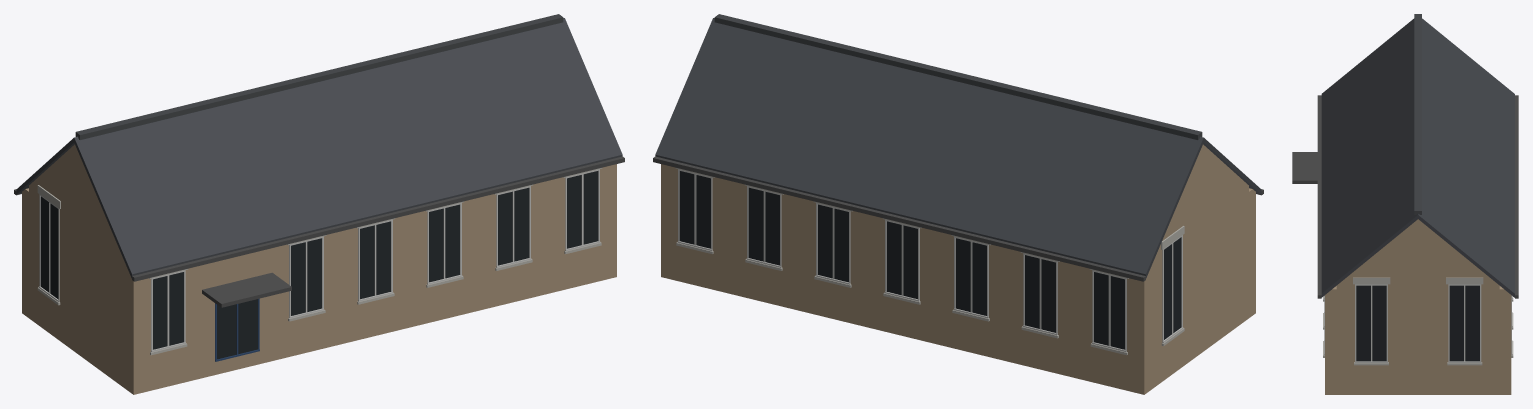
The model's file is context.school.board_school_stone.glb.
The picture shows the model from 3 angles, left to right: view 1: azimuth 30°, elevation 25°; view 2: azimuth 150°, elevation 25°; view 3: azimuth 270°, elevation 25°; orthographic projection. The views are drawn at different scales.
Parts seen in each view (by area): view 1: main__tile_445, main__stone_a97, main__paint_223, main__steel_555, main__tile_444, main__paint_ccc, main__stone_bba; view 2: main__tile_445, main__stone_a97, main__paint_223, main__paint_ccc, main__tile_444, main__steel_555, main__stone_bba; view 3: main__tile_445, main__stone_a97, main__paint_223, main__steel_555, main__tile_444, main__paint_ccc, main__stone_bba.
Part boxes in pixels (x1,y1,x2,y2): main__tile_445: (16, 18, 622, 278); main__stone_a97: (22, 144, 616, 394); main__paint_223: (40, 171, 598, 359); main__steel_555: (14, 156, 624, 307); main__tile_444: (75, 14, 563, 139); main__paint_ccc: (38, 169, 600, 352); main__stone_bba: (37, 168, 602, 355); main__tile_445: (655, 18, 1261, 278); main__stone_a97: (661, 144, 1255, 394); main__paint_223: (679, 171, 1181, 349); main__paint_ccc: (677, 169, 1183, 352); main__tile_444: (714, 14, 1202, 139); main__steel_555: (653, 156, 1263, 281); main__stone_bba: (675, 168, 1184, 355); main__tile_445: (1321, 18, 1514, 297); main__stone_a97: (1325, 219, 1511, 394); main__paint_223: (1356, 285, 1479, 361); main__steel_555: (1292, 95, 1518, 298); main__tile_444: (1414, 14, 1421, 214); main__paint_ccc: (1324, 284, 1512, 362); main__stone_bba: (1323, 277, 1513, 365).
Bounding box in the file's own units: 20.3 × 8.72 × 9.71.
